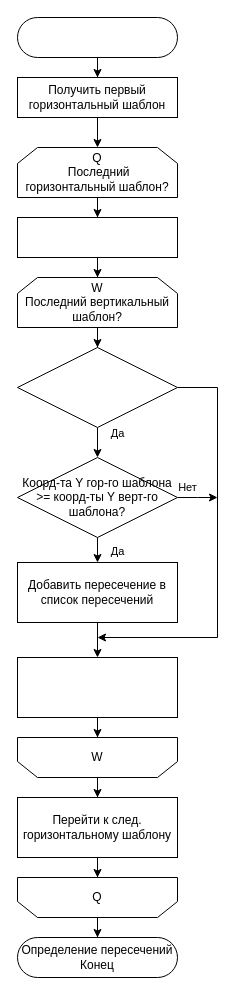
Image size: 243x995. Some labels were removed from this diagram. Each missing label, with the centre of its shape:
"Коорд-та X гор-го шаблона <= коорд-ты X верт-го шаблона?" goes at (97,387).
"Определение пересечений Начало" goes at (97,37).
"Перейти к след. вертикальному шаблону" goes at (97,687).
"Получить первый вертикальный шаблон" goes at (97,237).
